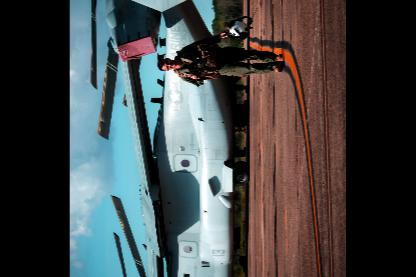Tornado: (74, 0, 250, 275)
